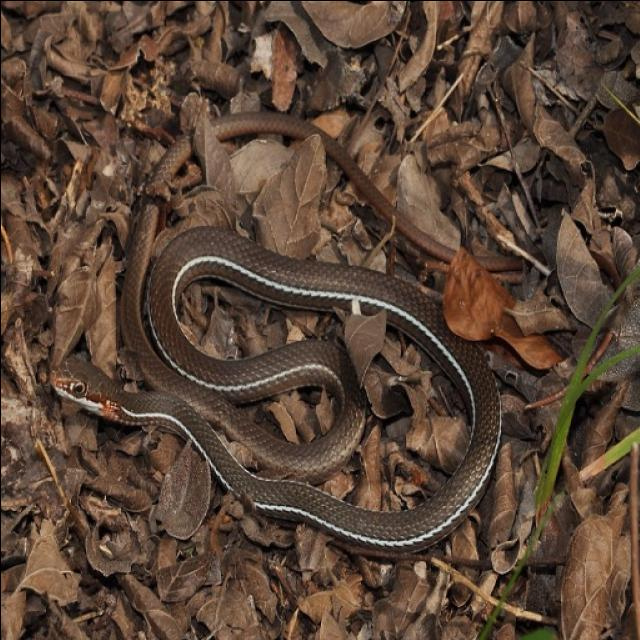snake: (42, 222, 508, 552)
